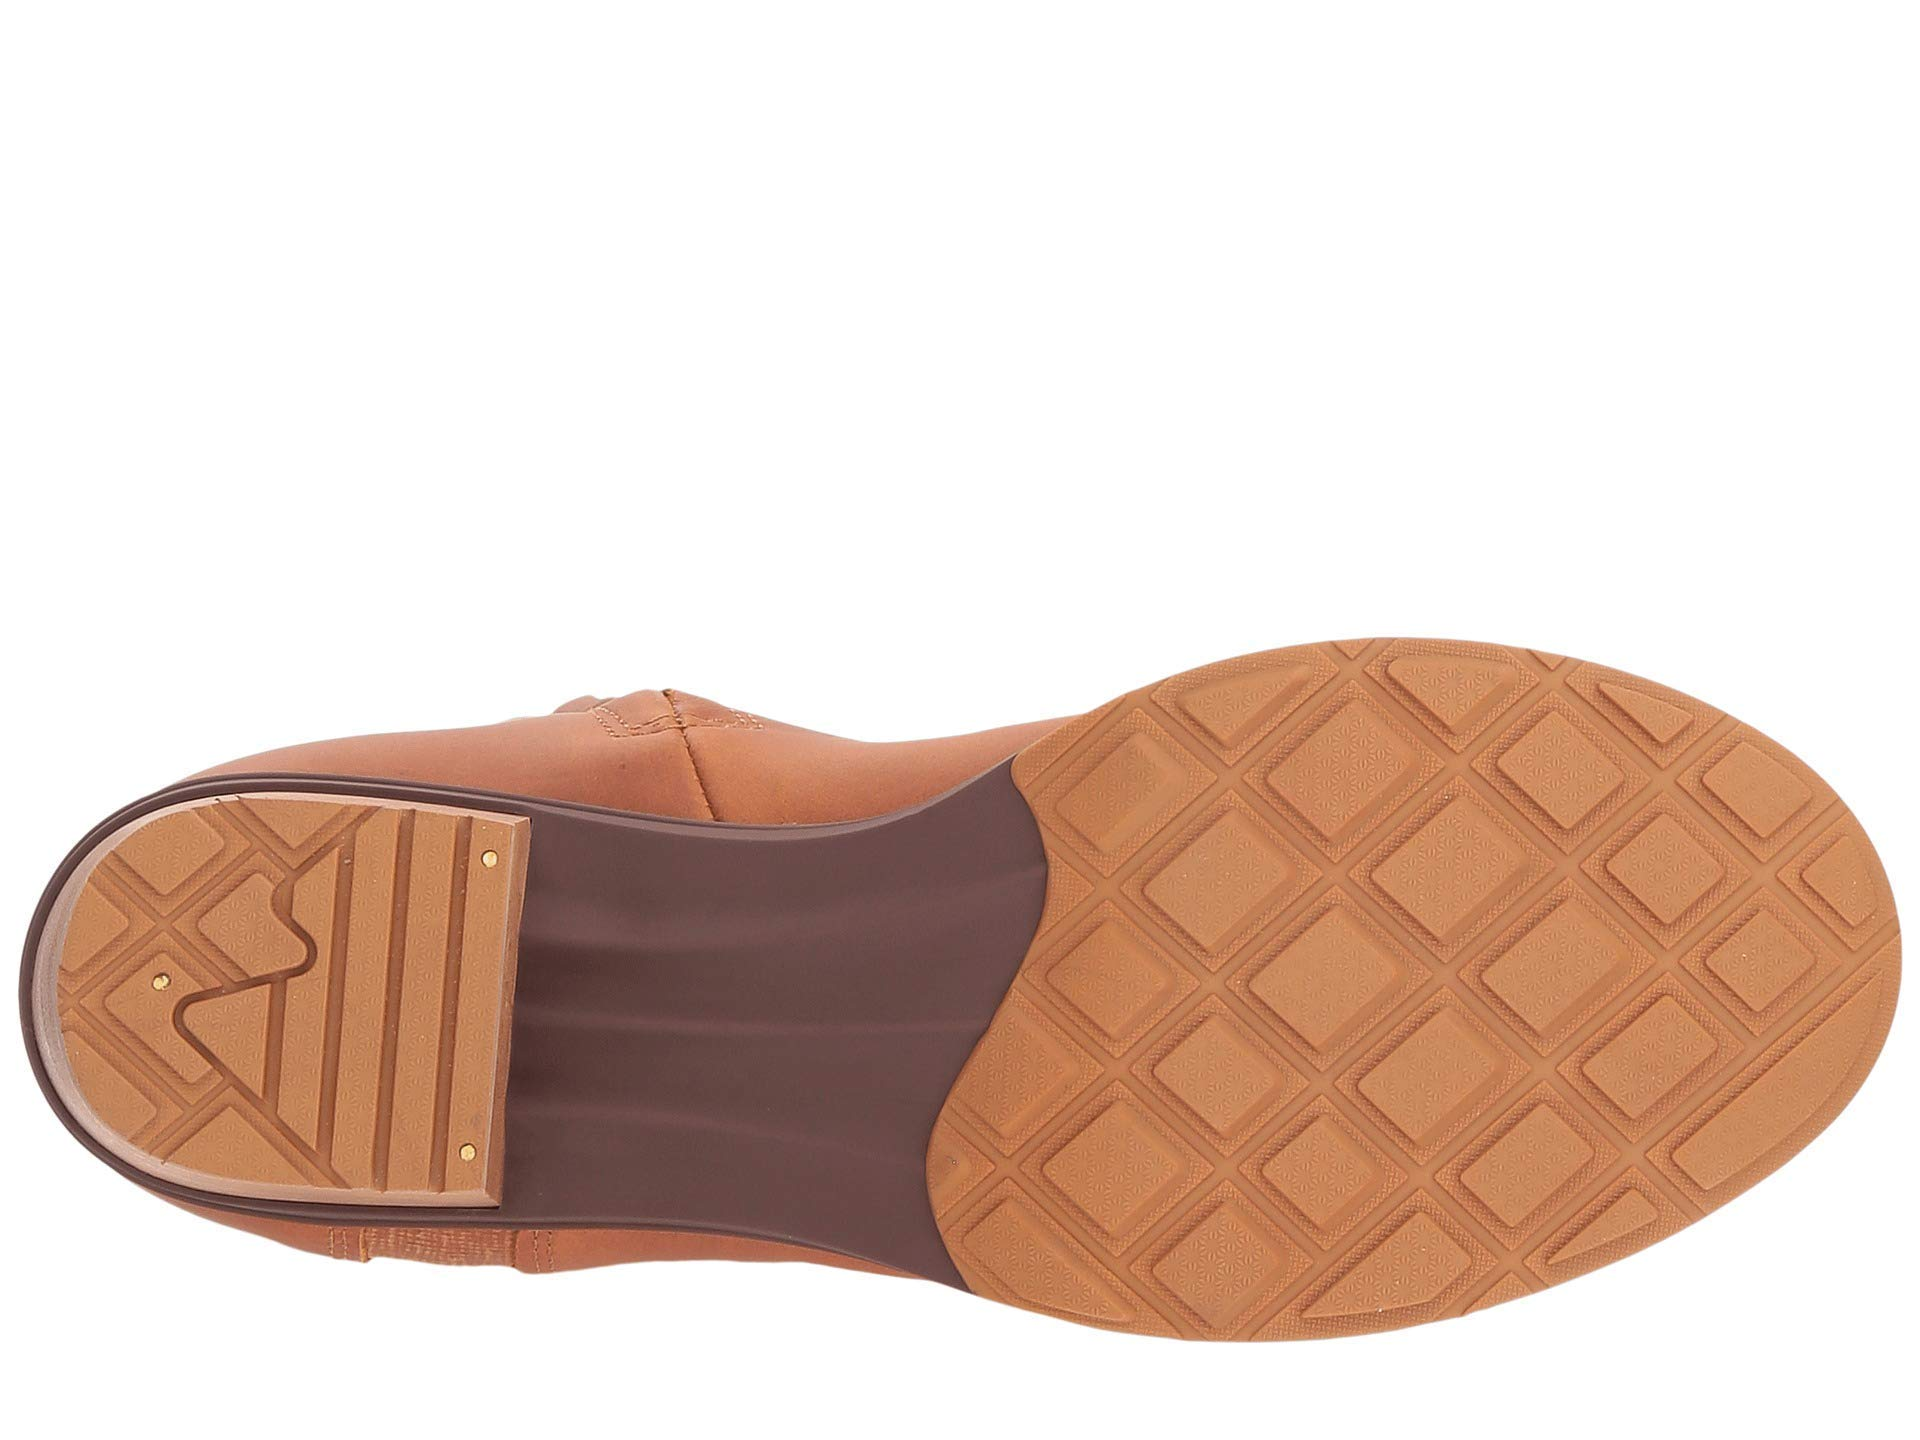circle: (395, 815, 505, 1203)
line: (76, 833, 310, 1184), (395, 815, 505, 1203)
quad: (1110, 737, 1790, 1178), (76, 833, 310, 1184)
triangle: (76, 833, 310, 1184)
